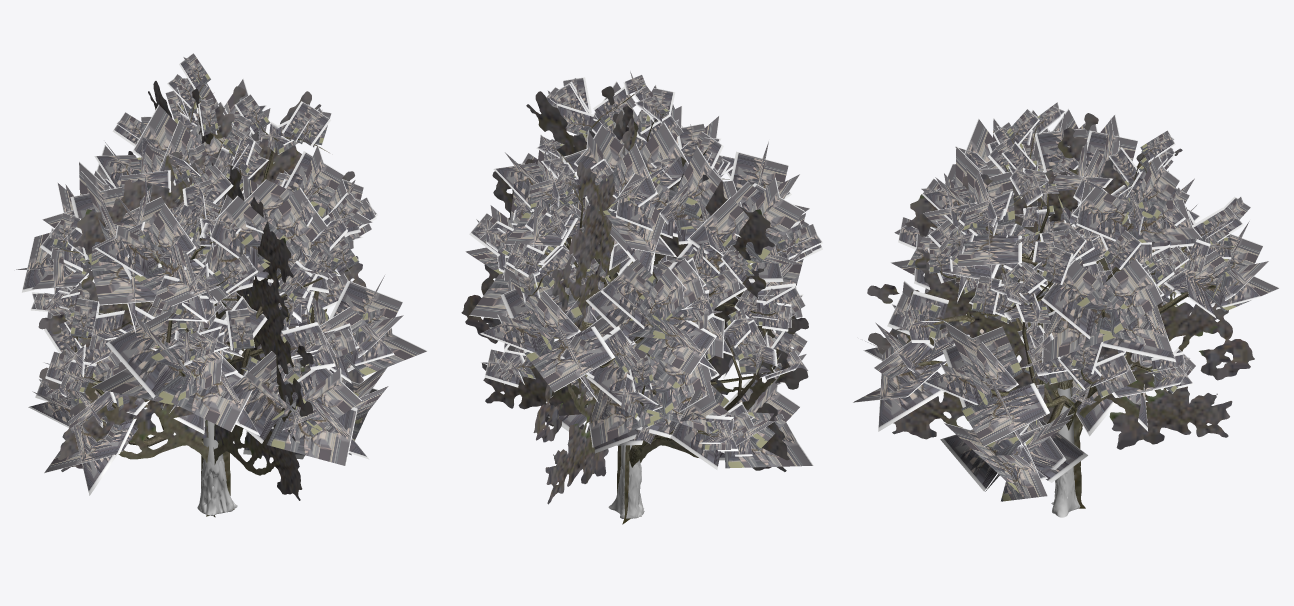
File: Tree-Oak4D.fbx
3 renders of one model, left to right at view 1: azimuth 30°, elevation 25°; view 2: azimuth 150°, elevation 25°; view 3: azimuth 270°, elevation 25°, orthographic. The views are drawn at different scales.
Visible parts, largest first — view 1: Tree-Oak4D_LOD0, Billboard-Oak4D; view 2: Tree-Oak4D_LOD0, Billboard-Oak4D; view 3: Tree-Oak4D_LOD0, Billboard-Oak4D.
Part boxes in pixels (x1=…): Tree-Oak4D_LOD0: x1=14, y1=53, x2=427, y2=515; Billboard-Oak4D: x1=38, y1=81, x2=366, y2=517; Tree-Oak4D_LOD0: x1=465, y1=71, x2=822, y2=518; Billboard-Oak4D: x1=461, y1=86, x2=808, y2=524; Tree-Oak4D_LOD0: x1=853, y1=102, x2=1279, y2=517; Billboard-Oak4D: x1=867, y1=113, x2=1254, y2=508.
Size of what is drawn, in the model's own units: 2745 by 3164 by 2982.
